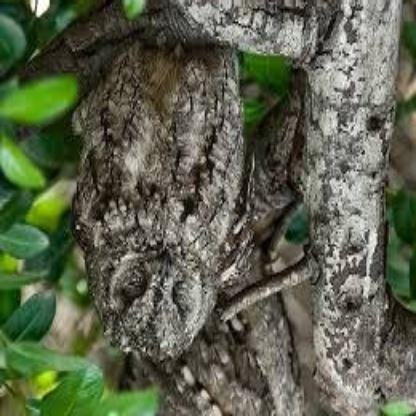Owl: (75, 49, 242, 345)
